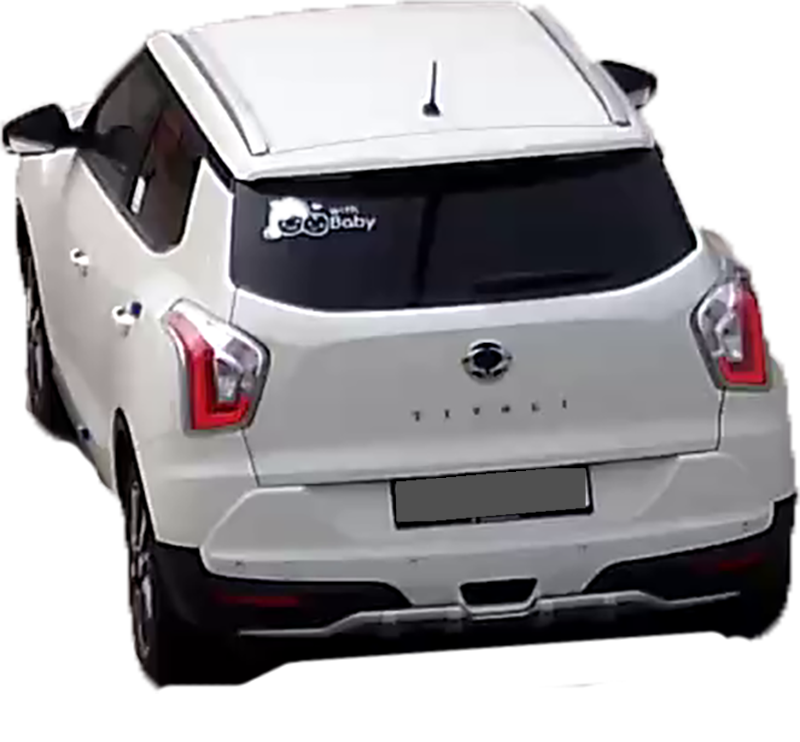P1_: (394, 476, 405, 486)
bbox: (394, 460, 595, 531)
